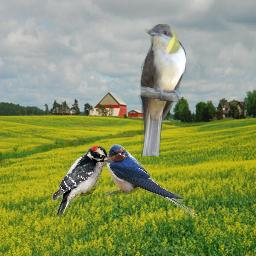Cuckoo: (138, 24, 186, 156)
Swallow: (105, 144, 197, 217)
Woodpecker: (52, 146, 115, 218)
